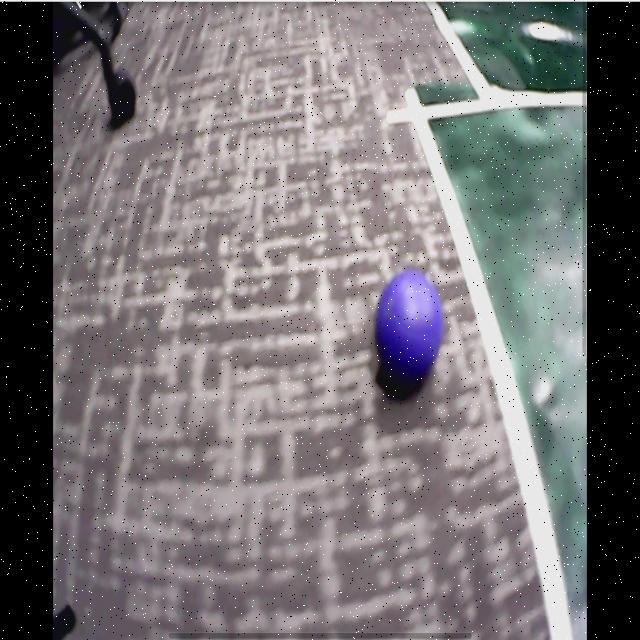ball: (377, 272, 441, 376)
